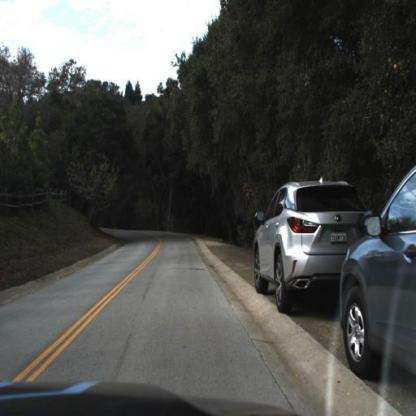car: (252, 177, 386, 316), (251, 177, 376, 321)
